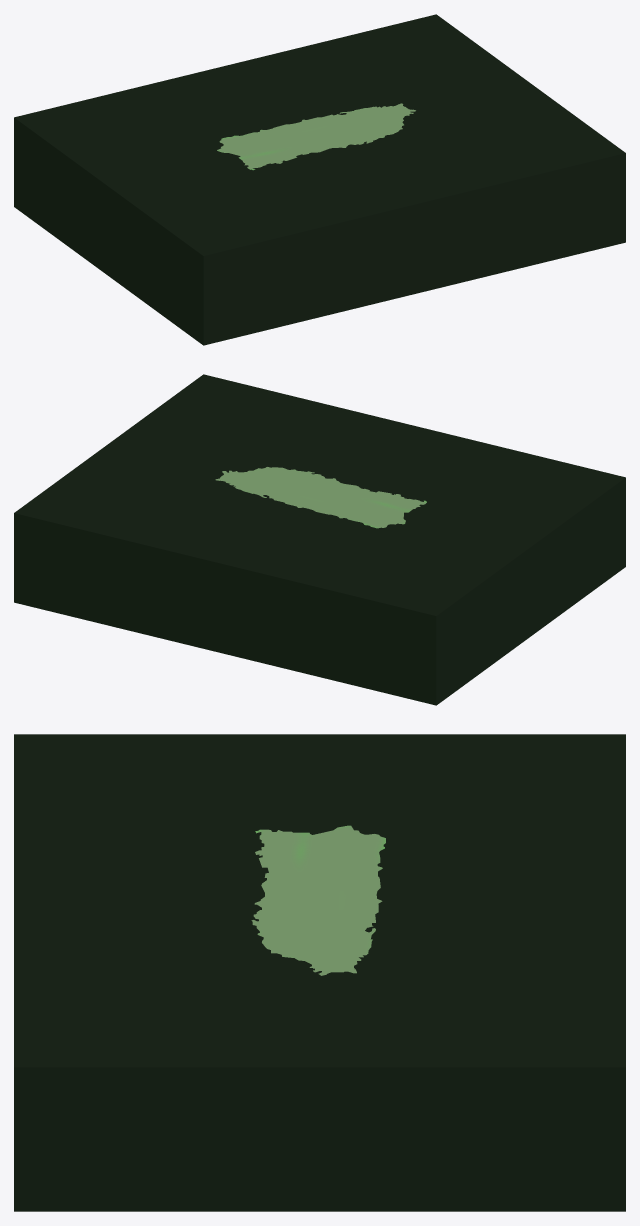
Rendered from water.gltf.
3 views of the same model, one above another, from view 1: azimuth 30°, elevation 25°; view 2: azimuth 150°, elevation 25°; view 3: azimuth 270°, elevation 25° (orthographic). The views are drawn at different scales.
Parts seen in each view (by area): view 1: Water, Puerto Rico; view 2: Water, Puerto Rico; view 3: Water, Puerto Rico.
Boxes of the visible parts, box(x1,y1,x2,y2) form: Water: box(14, 14, 625, 345); Puerto Rico: box(217, 103, 415, 170); Water: box(14, 374, 625, 705); Puerto Rico: box(215, 467, 426, 528); Water: box(14, 734, 625, 1211); Puerto Rico: box(251, 825, 385, 975).
Size of the model in its own units: 7.54 by 1.54 by 5.86.
2 materials, 1 textured.
